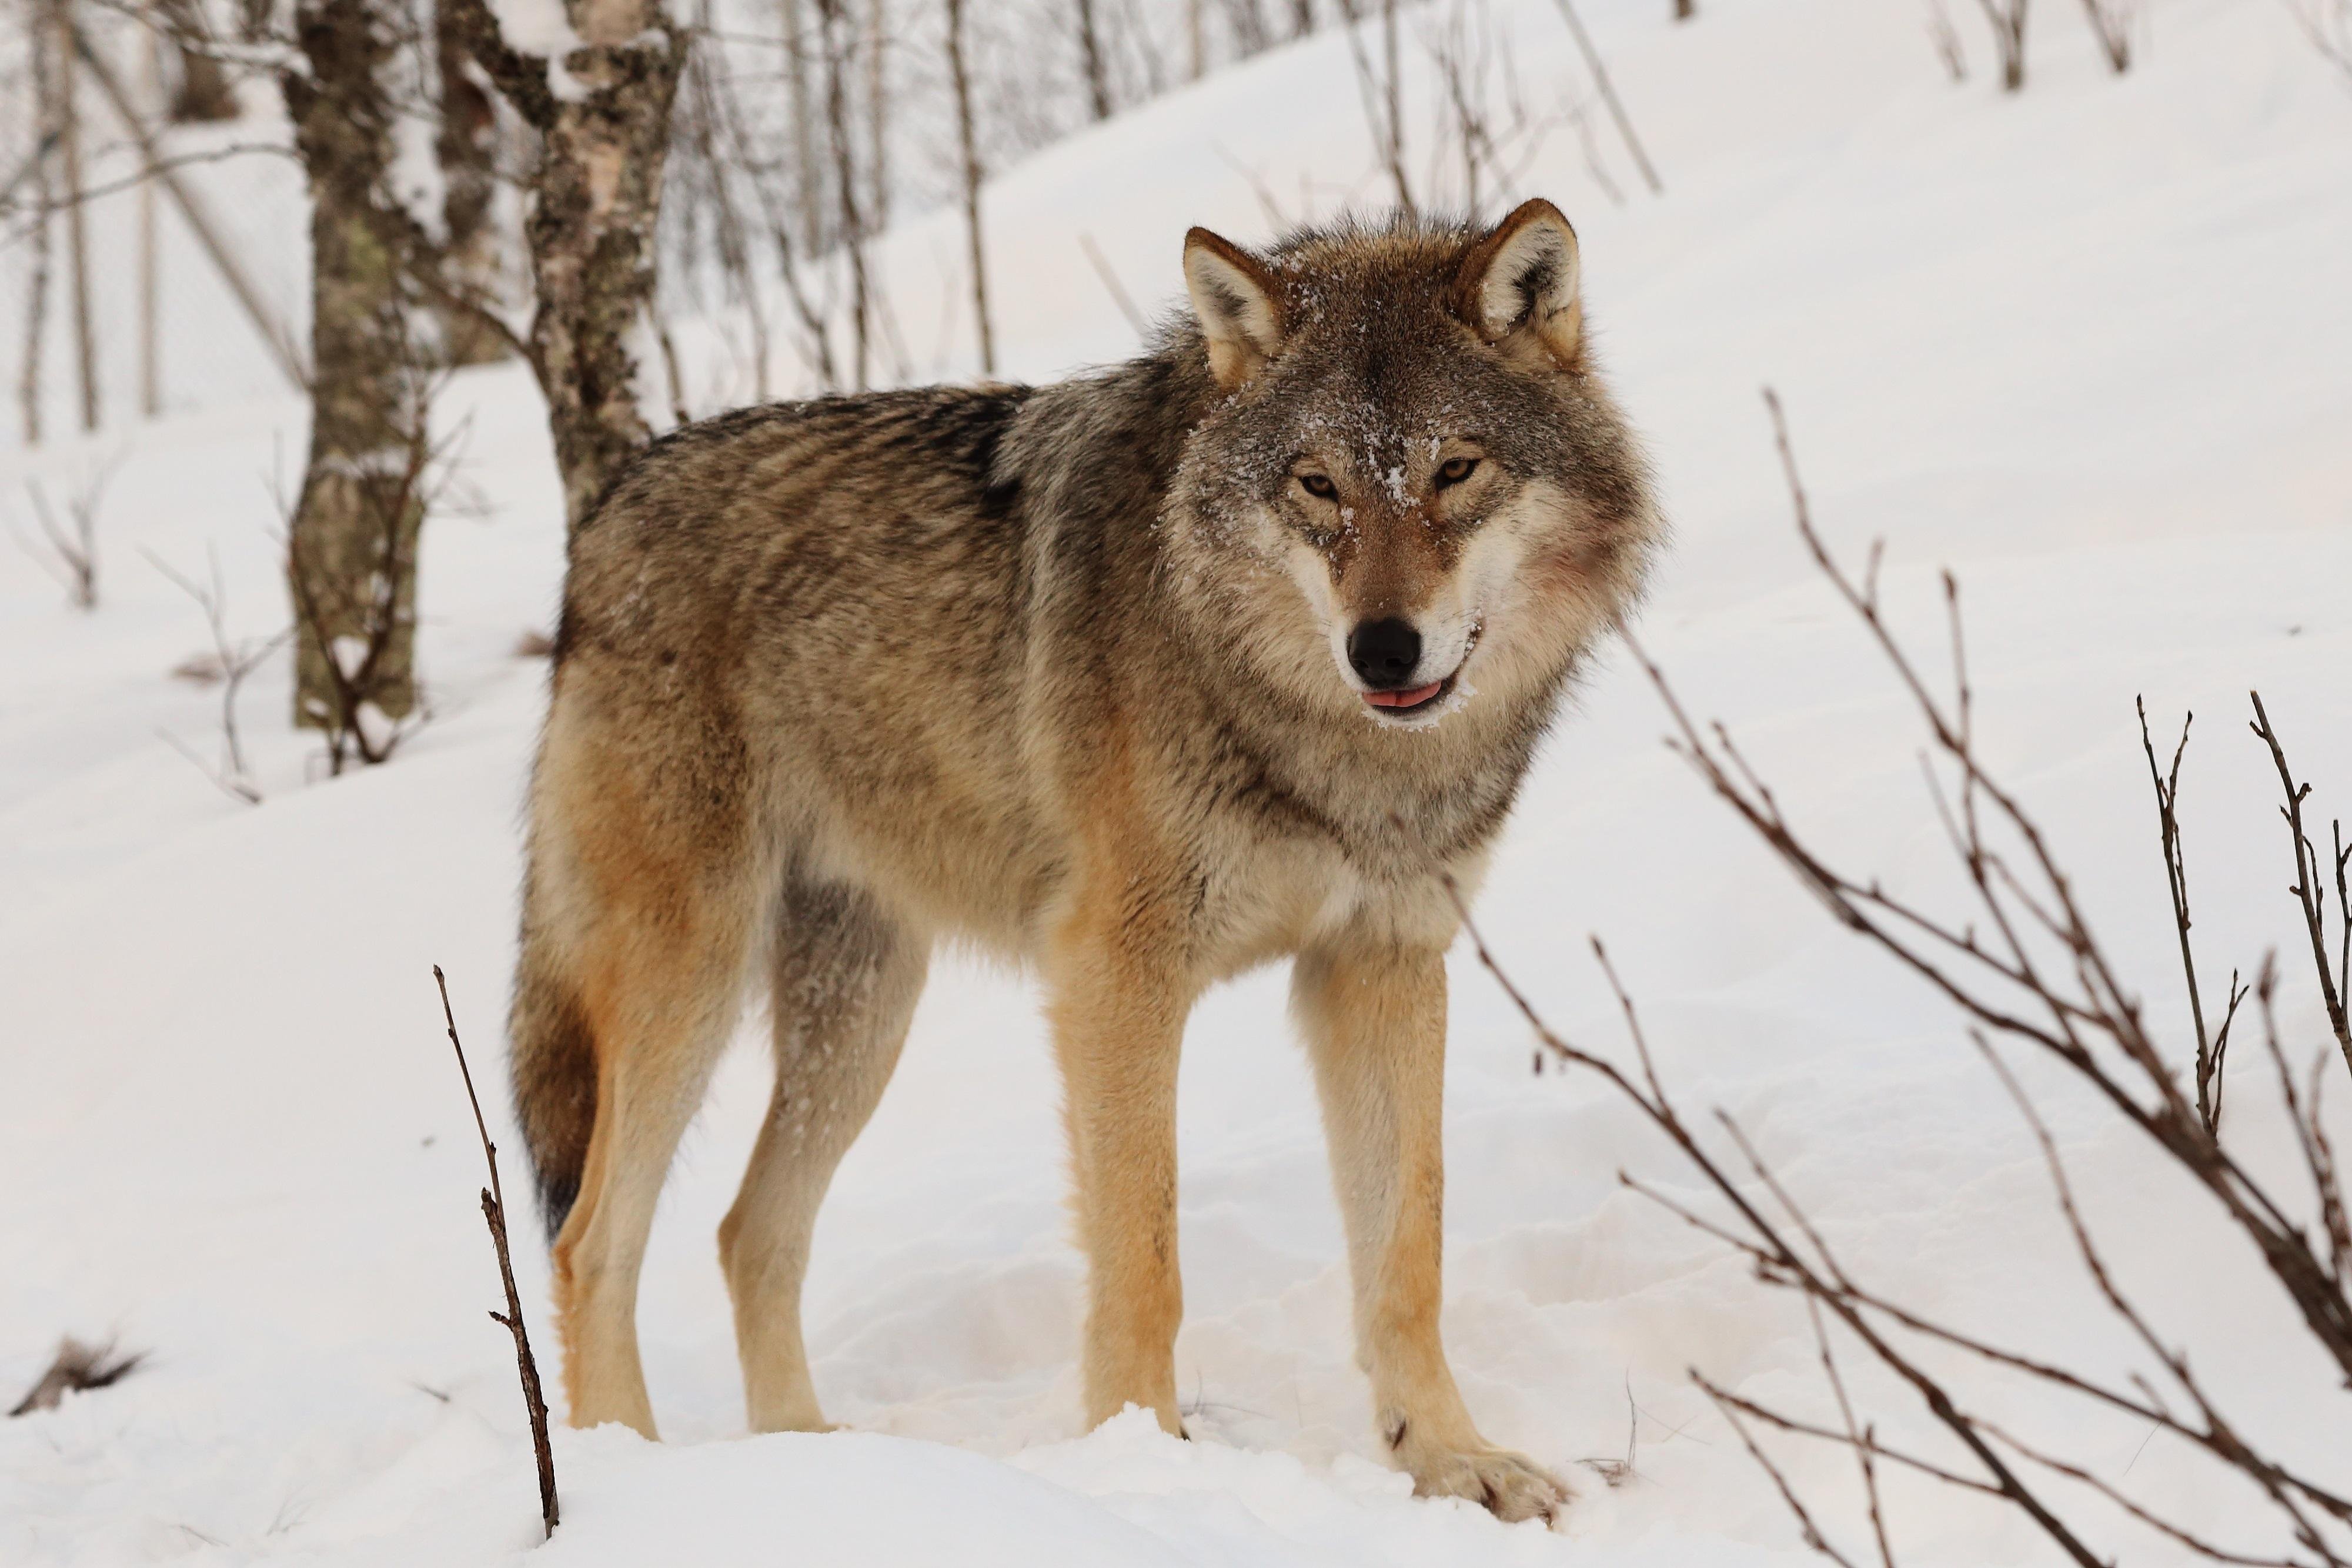Wolf: (495, 196, 1671, 1522)
